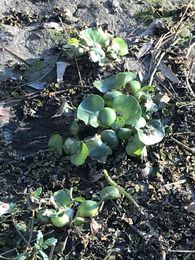water_hyacinth: (41, 28, 161, 233)
